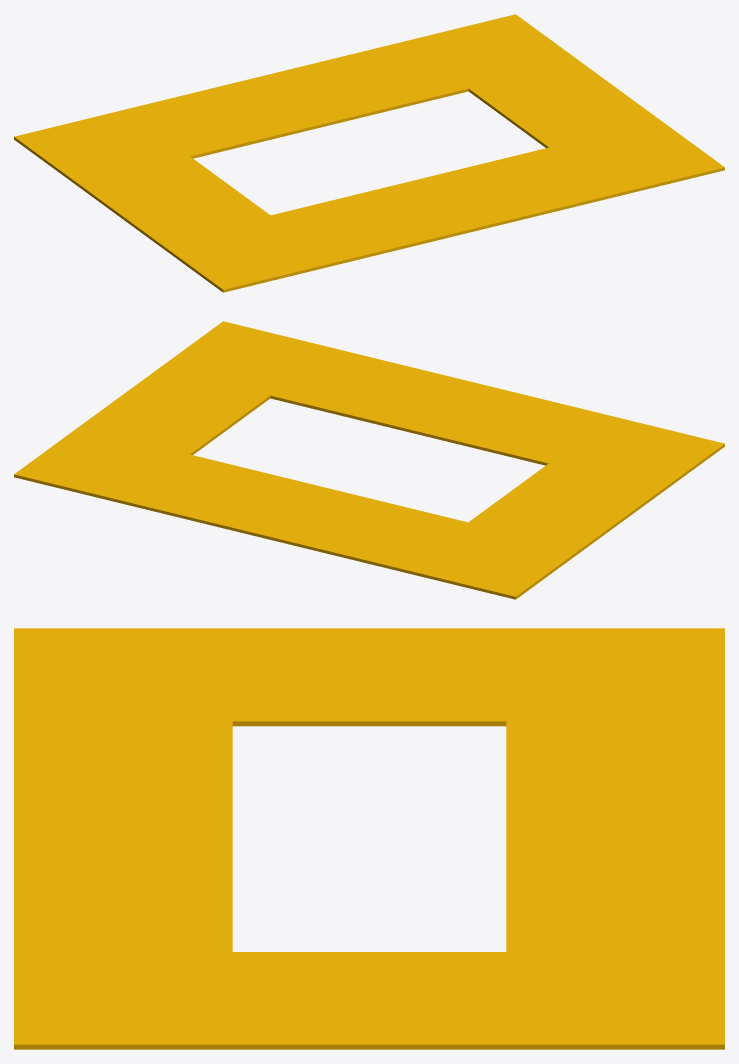
3 renders of one model, top to bottom at view 1: azimuth 30°, elevation 25°; view 2: azimuth 150°, elevation 25°; view 3: azimuth 270°, elevation 25°, orthographic. The views are drawn at different scales.
Visible parts, largest first — view 1: LEVEL; view 2: LEVEL; view 3: LEVEL.
Boxes of the visible parts, bbox=[...] form: LEVEL: bbox=[14, 14, 724, 292]; LEVEL: bbox=[14, 321, 724, 599]; LEVEL: bbox=[14, 628, 724, 1049].
Size of the model in its own units: 90 by 0.5 by 65.
